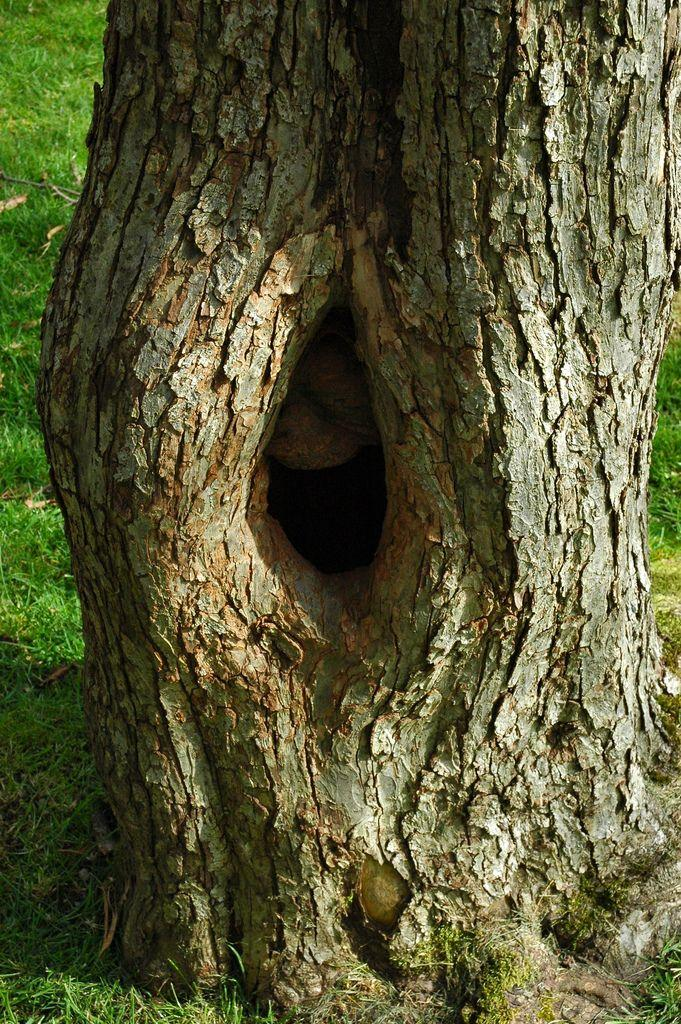hollow: (267, 310, 385, 572)
